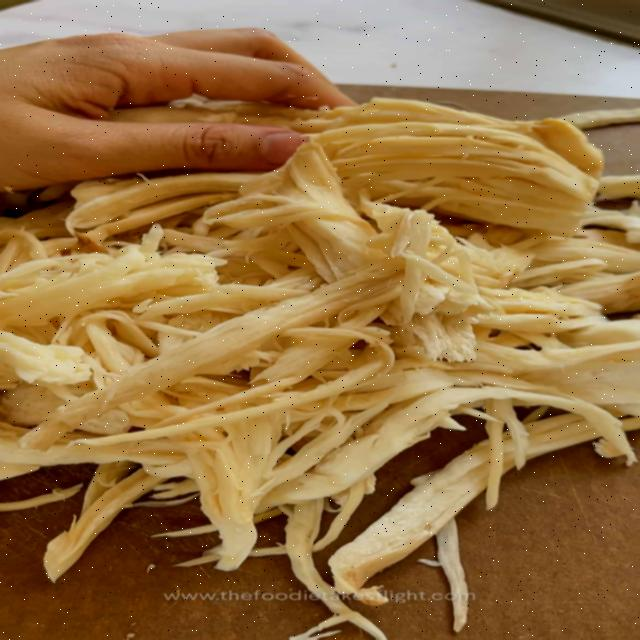Mushroom: (60, 197, 640, 491)
